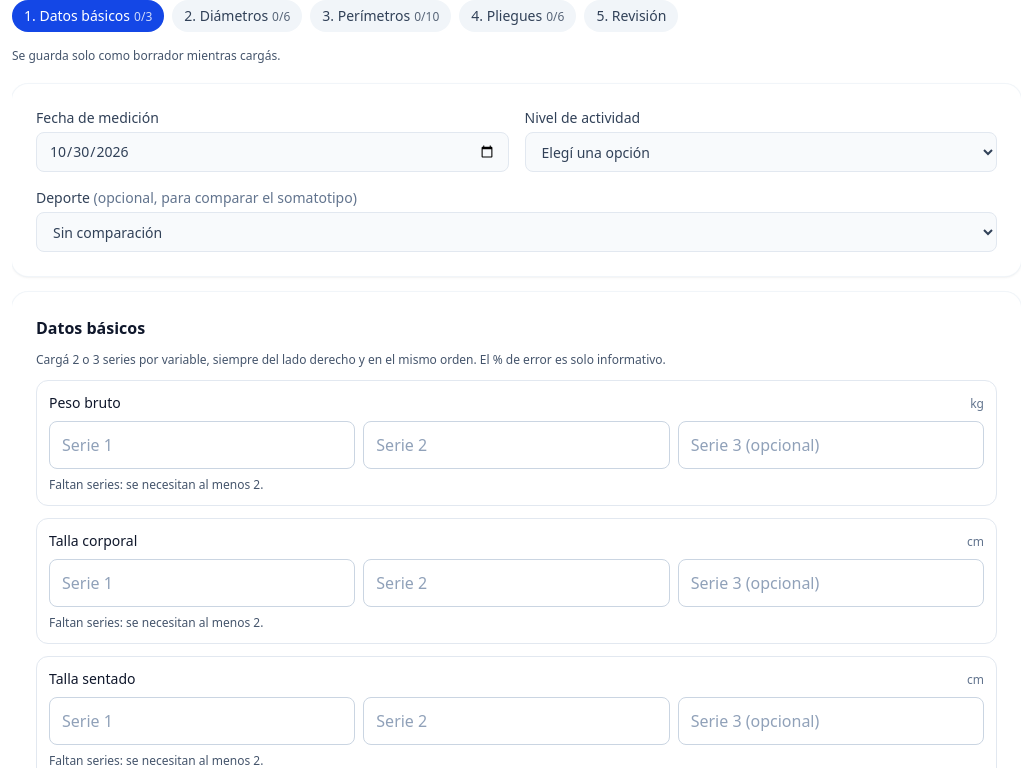
Scenario: asistente: fotos en la revisión › la revisión tiene la sección Fotos posturales, opcional y debajo de instrumentos
The width and height of the screenshot is (1036, 768).
Click the button "5. Revisión".
click(631, 16)  # box 584,0 -> 678,32
(page scrolled)
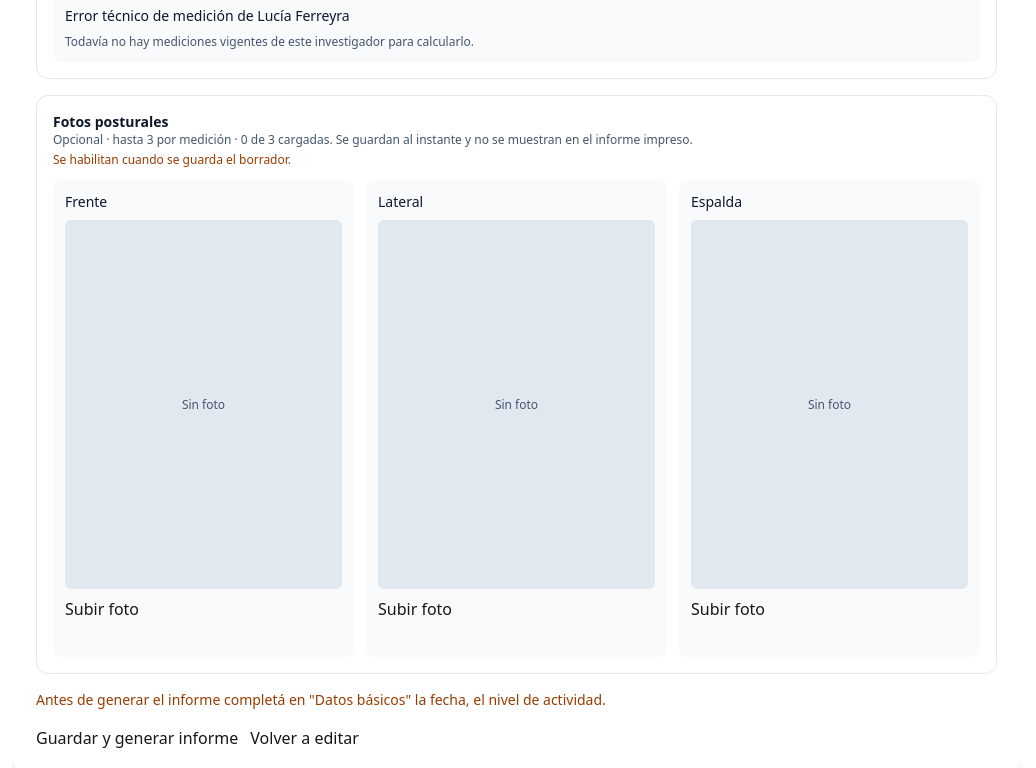
Check: the element "Fotos posturales" shows "Opcional · hasta 3 por medición · 0 de 3 cargadas"
